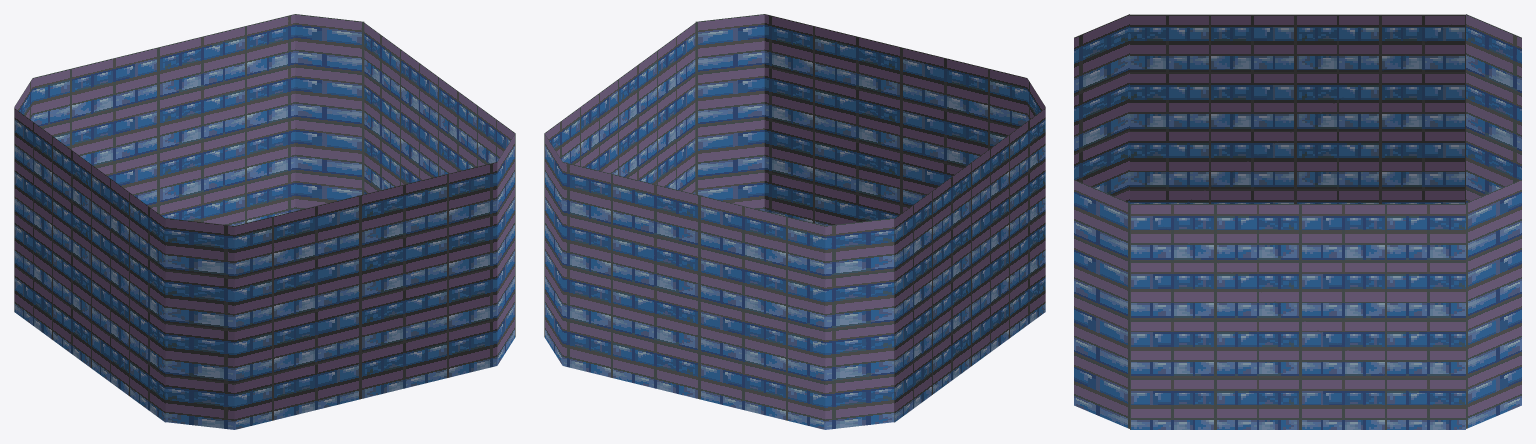
The picture shows the model from 3 angles, left to right: view 1: azimuth 30°, elevation 25°; view 2: azimuth 150°, elevation 25°; view 3: azimuth 270°, elevation 25°; orthographic projection. The views are drawn at different scales.
Visible parts, largest first — view 1: obj-112; view 2: obj-112; view 3: obj-112.
Part boxes in pixels (<box>): obj-112: <box>14,14,515,429</box>; obj-112: <box>544,14,1045,429</box>; obj-112: <box>1074,14,1521,429</box>.
Bounding box in the file's own units: 3.45 × 1.93 × 3.45.
1 material, 1 textured.
